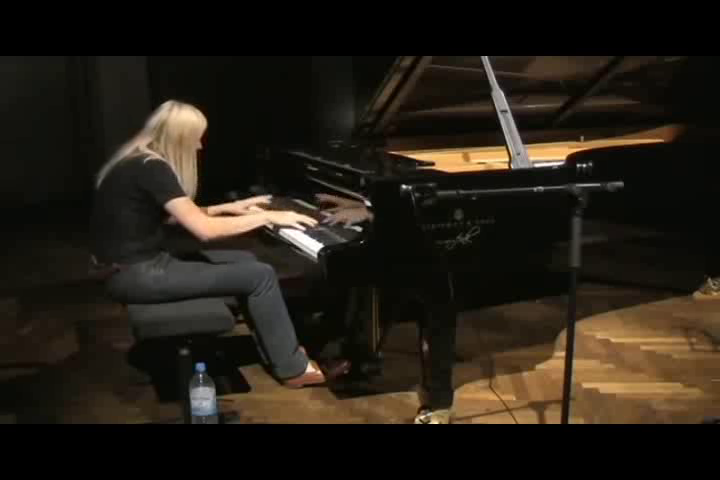keyboard: (218, 184, 369, 274)
